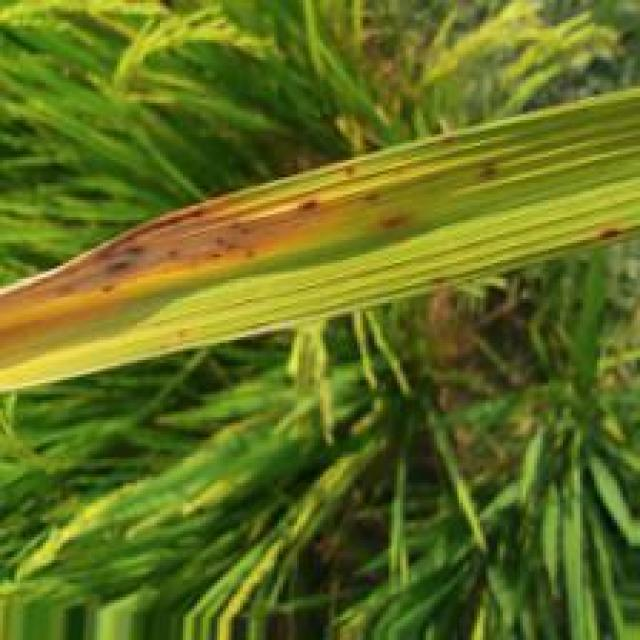Bacterial_Leaf_Blight: (0, 141, 442, 404)
